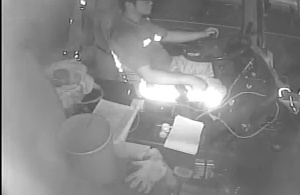paper: (163, 114, 205, 158)
